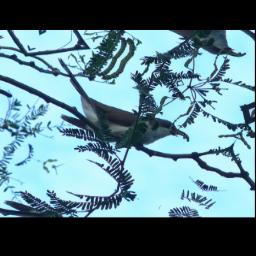Cuckoo: (17, 54, 207, 170)
